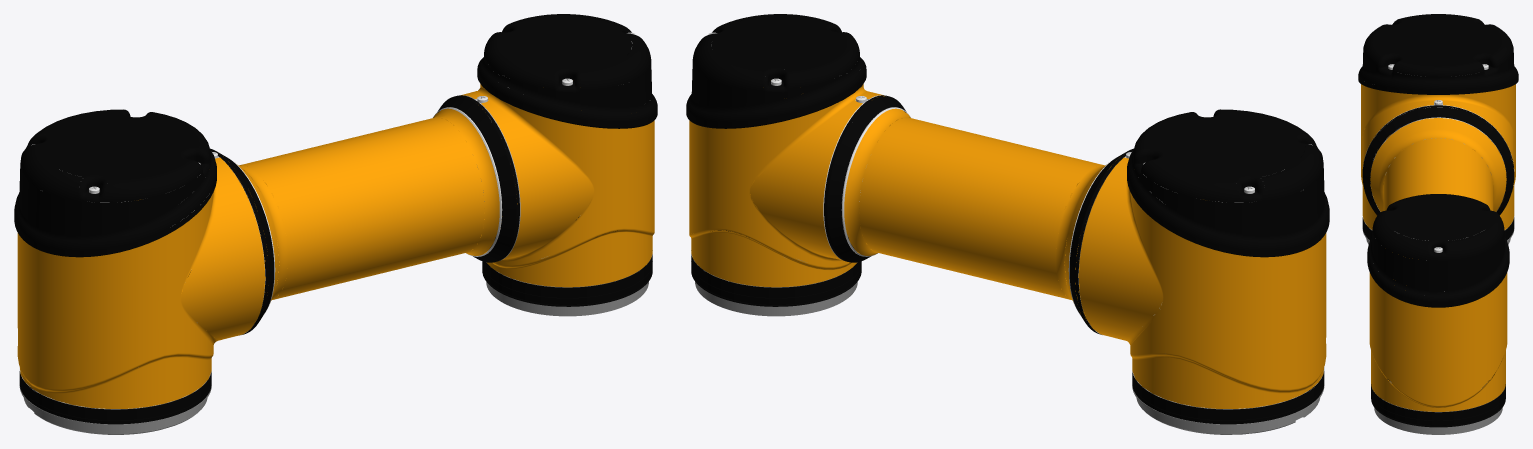
The model's file is upperArm_Link.DAE.
3 views of the same model, side by side, from view 1: azimuth 30°, elevation 25°; view 2: azimuth 150°, elevation 25°; view 3: azimuth 270°, elevation 25° (orthographic). The views are drawn at different scales.
Parts seen in each view (by area): view 1: NONE-DC_Shell_ncl1_12, NONE-DC_Shell_ncl1_13, NONE-DC_Shell_ncl1_3, NONE-DC_Shell_ncl1_14, NONE-DC_Shell_ncl1_8, NONE-DC_Shell_ncl1_6, NONE-DC_Shell_ncl1_9, NONE-DC_Shell_ncl1_5, NONE-DC_Shell_ncl1_20, NONE-DC_Shell_ncl1_4, NONE-DC_Shell_ncl1_24; view 2: NONE-DC_Shell_ncl1_12, NONE-DC_Shell_ncl1_13, NONE-DC_Shell_ncl1_3, NONE-DC_Shell_ncl1_14, NONE-DC_Shell_ncl1_8, NONE-DC_Shell_ncl1_6, NONE-DC_Shell_ncl1_9, NONE-DC_Shell_ncl1_5, NONE-DC_Shell_ncl1_20, NONE-DC_Shell_ncl1_4, NONE-DC_Shell_ncl1_24; view 3: NONE-DC_Shell_ncl1_14, NONE-DC_Shell_ncl1_8, NONE-DC_Shell_ncl1_3, NONE-DC_Shell_ncl1_13, NONE-DC_Shell_ncl1_12, NONE-DC_Shell_ncl1_4, NONE-DC_Shell_ncl1_9, NONE-DC_Shell_ncl1_24, NONE-DC_Shell_ncl1_5.
Boxes of the visible parts, bbox=[...] form: NONE-DC_Shell_ncl1_12: bbox=[17, 157, 265, 408]; NONE-DC_Shell_ncl1_13: bbox=[223, 108, 499, 316]; NONE-DC_Shell_ncl1_3: bbox=[14, 109, 216, 257]; NONE-DC_Shell_ncl1_14: bbox=[447, 84, 654, 287]; NONE-DC_Shell_ncl1_8: bbox=[477, 14, 657, 128]; NONE-DC_Shell_ncl1_6: bbox=[437, 95, 519, 262]; NONE-DC_Shell_ncl1_9: bbox=[482, 216, 652, 306]; NONE-DC_Shell_ncl1_5: bbox=[19, 371, 211, 424]; NONE-DC_Shell_ncl1_20: bbox=[19, 386, 211, 434]; NONE-DC_Shell_ncl1_4: bbox=[188, 148, 274, 334]; NONE-DC_Shell_ncl1_24: bbox=[486, 256, 648, 316]; NONE-DC_Shell_ncl1_12: bbox=[1079, 157, 1326, 409]; NONE-DC_Shell_ncl1_13: bbox=[844, 108, 1122, 318]; NONE-DC_Shell_ncl1_3: bbox=[1127, 109, 1329, 257]; NONE-DC_Shell_ncl1_14: bbox=[689, 84, 896, 287]; NONE-DC_Shell_ncl1_8: bbox=[686, 14, 866, 128]; NONE-DC_Shell_ncl1_6: bbox=[824, 95, 906, 262]; NONE-DC_Shell_ncl1_9: bbox=[691, 230, 861, 306]; NONE-DC_Shell_ncl1_5: bbox=[1132, 371, 1324, 424]; NONE-DC_Shell_ncl1_20: bbox=[1132, 386, 1324, 434]; NONE-DC_Shell_ncl1_4: bbox=[1069, 148, 1133, 334]; NONE-DC_Shell_ncl1_24: bbox=[695, 257, 857, 316]; NONE-DC_Shell_ncl1_14: bbox=[1369, 272, 1507, 411]; NONE-DC_Shell_ncl1_8: bbox=[1367, 194, 1509, 307]; NONE-DC_Shell_ncl1_3: bbox=[1358, 14, 1518, 94]; NONE-DC_Shell_ncl1_13: bbox=[1370, 117, 1506, 211]; NONE-DC_Shell_ncl1_12: bbox=[1361, 84, 1515, 229]; NONE-DC_Shell_ncl1_4: bbox=[1362, 105, 1514, 215]; NONE-DC_Shell_ncl1_9: bbox=[1371, 374, 1505, 427]; NONE-DC_Shell_ncl1_24: bbox=[1374, 381, 1502, 434]; NONE-DC_Shell_ncl1_5: bbox=[1362, 217, 1514, 240].
Bounding box in the file's own units: 364 × 104 × 142.
